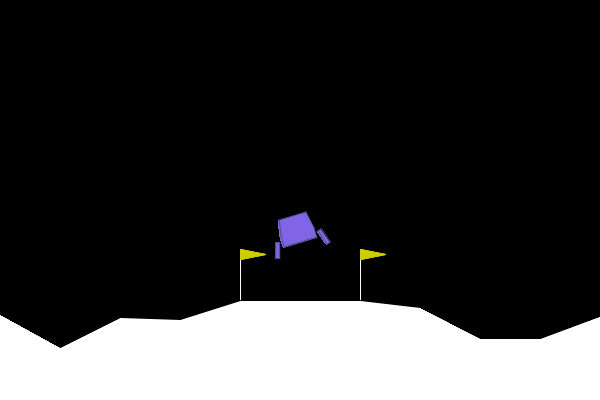lander: (263, 206, 332, 261)
